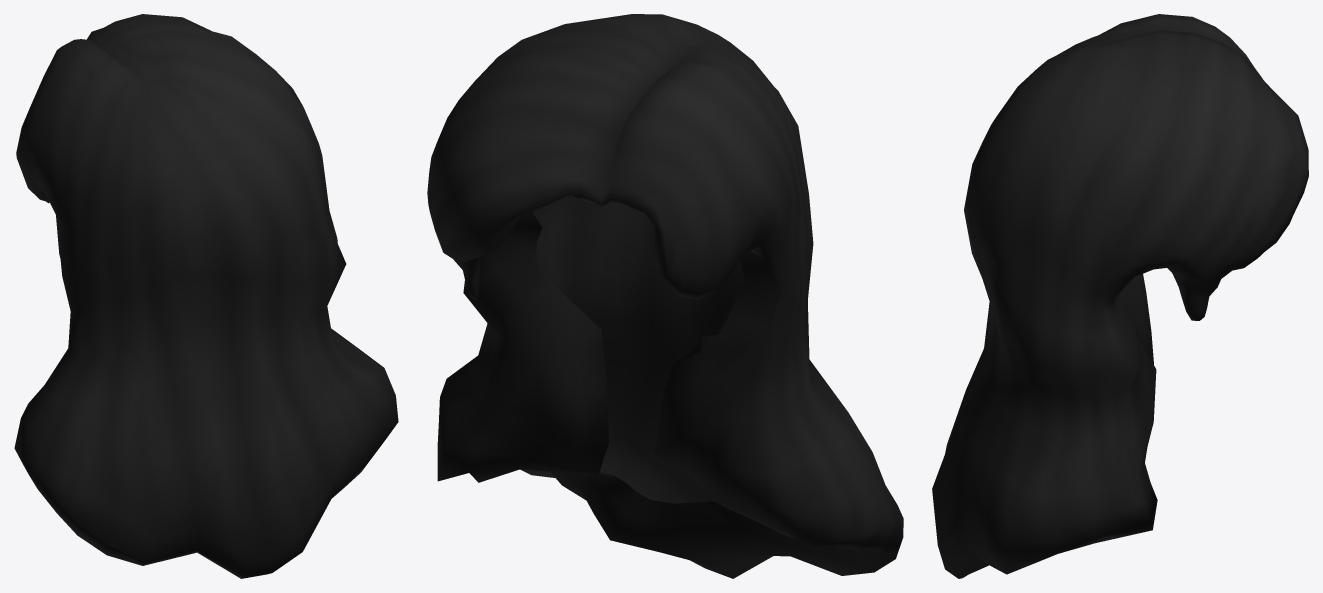
Rendered from Hair_Female_003_textured_black.glb.
The picture shows the model from 3 angles, left to right: view 1: azimuth 30°, elevation 25°; view 2: azimuth 150°, elevation 25°; view 3: azimuth 270°, elevation 25°; orthographic projection. The views are drawn at different scales.
Parts seen in each view (by area): view 1: Hair_Female_003; view 2: Hair_Female_003; view 3: Hair_Female_003.
Part boxes in pixels (x1=…): Hair_Female_003: x1=14, y1=14, x2=398, y2=578; Hair_Female_003: x1=427, y1=14, x2=903, y2=578; Hair_Female_003: x1=932, y1=14, x2=1308, y2=578.
Size of the model in its own units: 0.2864 by 0.3854 by 0.2514.
Materials: 1 (1 with a texture image).
